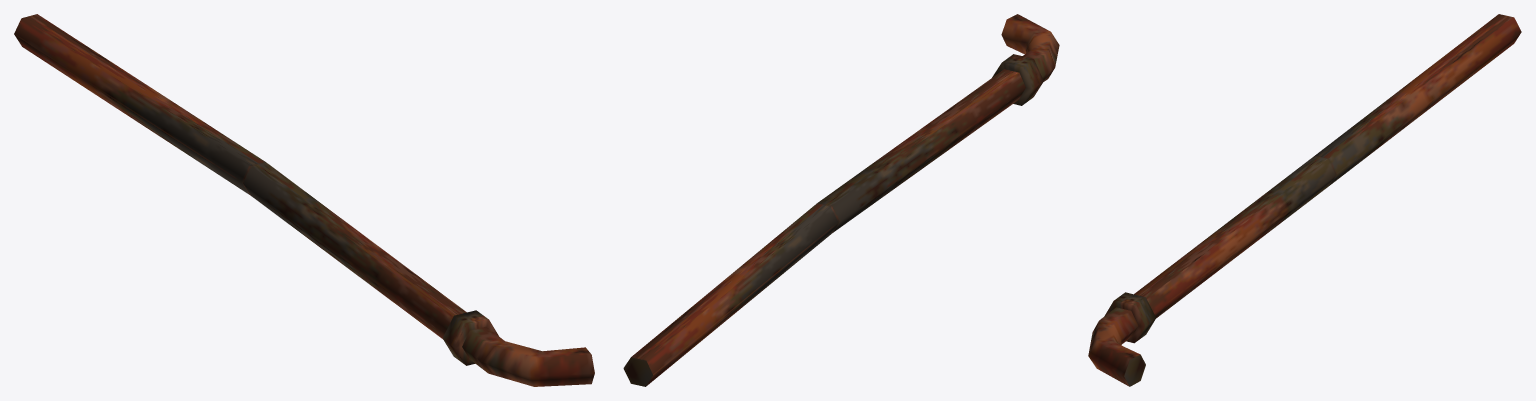
Rendered from Pipe.fbx.
3 views of the same model, side by side, from view 1: azimuth 30°, elevation 25°; view 2: azimuth 150°, elevation 25°; view 3: azimuth 330°, elevation 25° (orthographic). The views are drawn at different scales.
Visible parts, largest first — view 1: pipe.001; view 2: pipe.001; view 3: pipe.001.
Part boxes in pixels (<box>): pipe.001: <box>14,14,594,386</box>; pipe.001: <box>623,14,1059,386</box>; pipe.001: <box>1088,14,1521,386</box>.
Size of the model in its own units: 25.8 by 10.6 by 229.
Materials: 1 (1 with a texture image).
